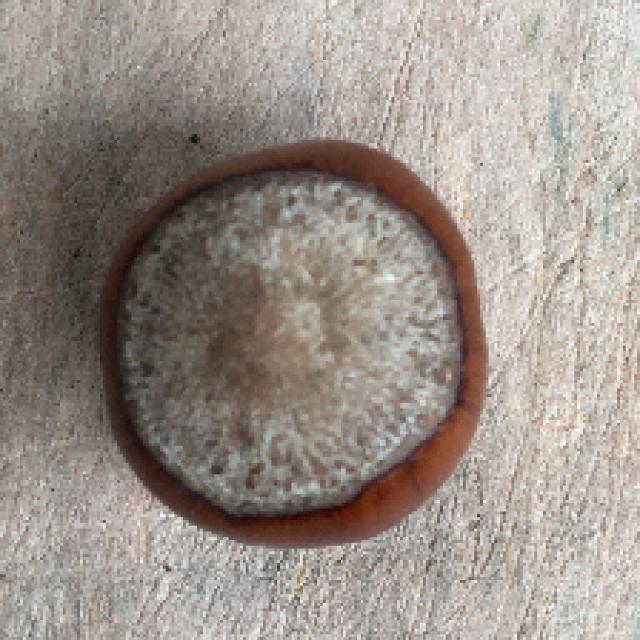qualityHazelnut: (88, 128, 500, 554)
